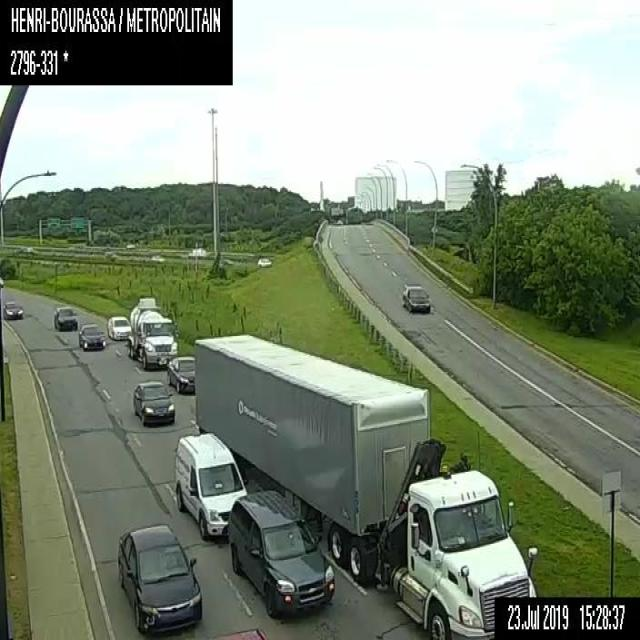vehicle: (194, 333, 536, 639), (226, 488, 334, 617), (117, 525, 202, 632), (173, 431, 247, 540), (127, 297, 177, 369), (133, 379, 174, 424), (167, 355, 194, 394), (402, 283, 430, 312), (78, 323, 106, 351), (209, 626, 268, 638), (52, 306, 77, 330), (108, 315, 130, 339), (2, 300, 23, 319), (187, 247, 206, 256), (257, 256, 271, 266), (151, 254, 164, 260)
